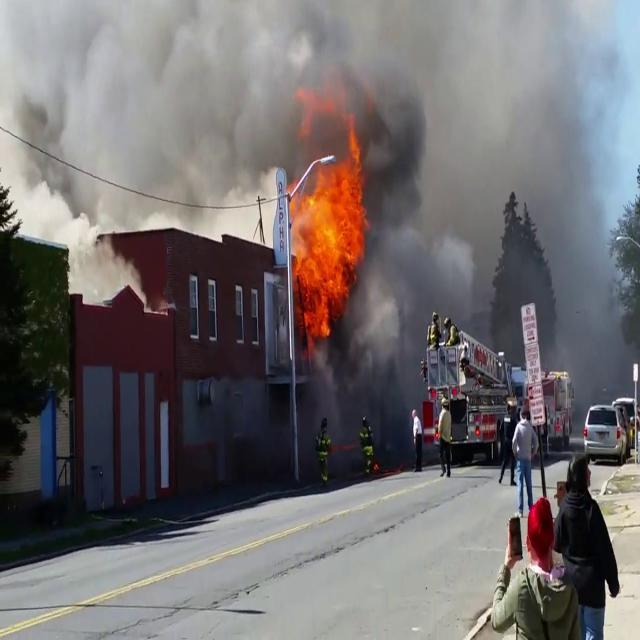Fire: (286, 132, 368, 336)
Smoke: (335, 0, 639, 448)
